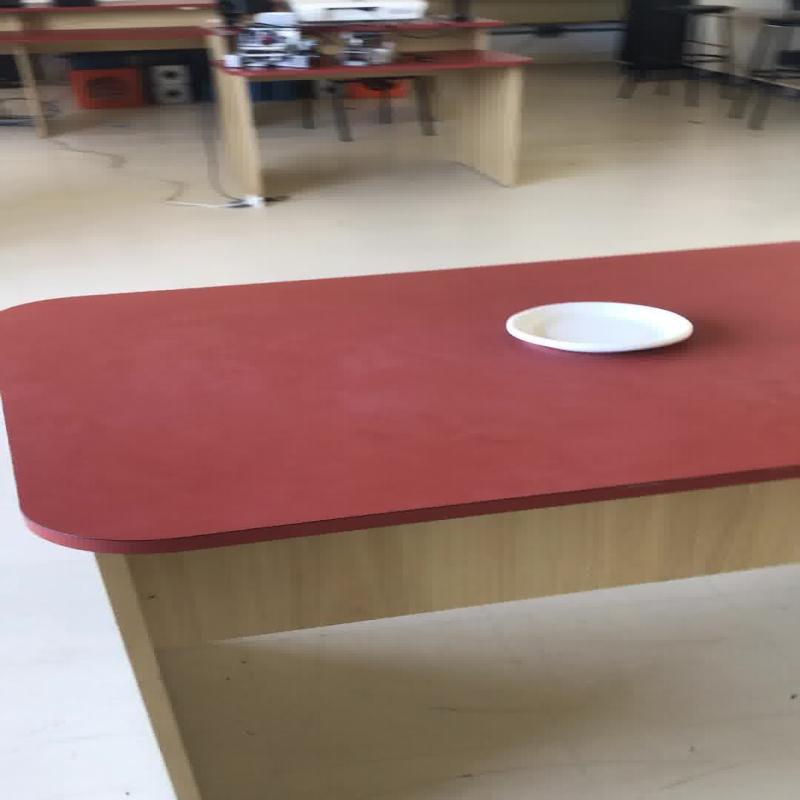plate: (504, 300, 693, 353)
